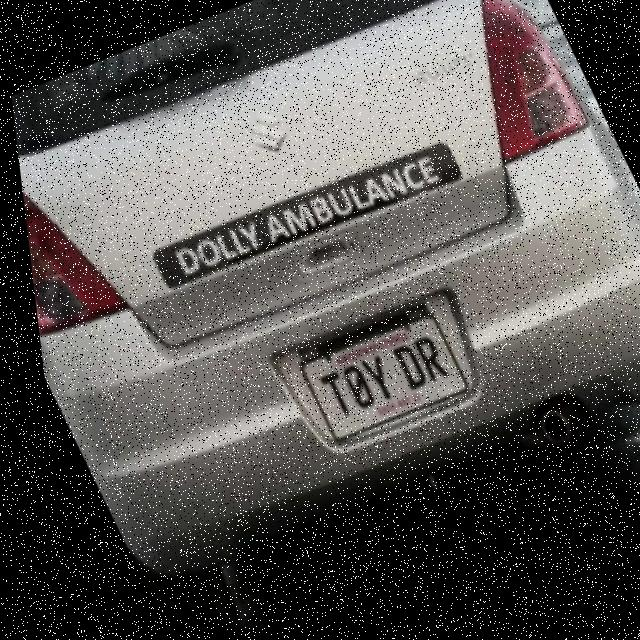license_plate: (284, 312, 465, 444)
